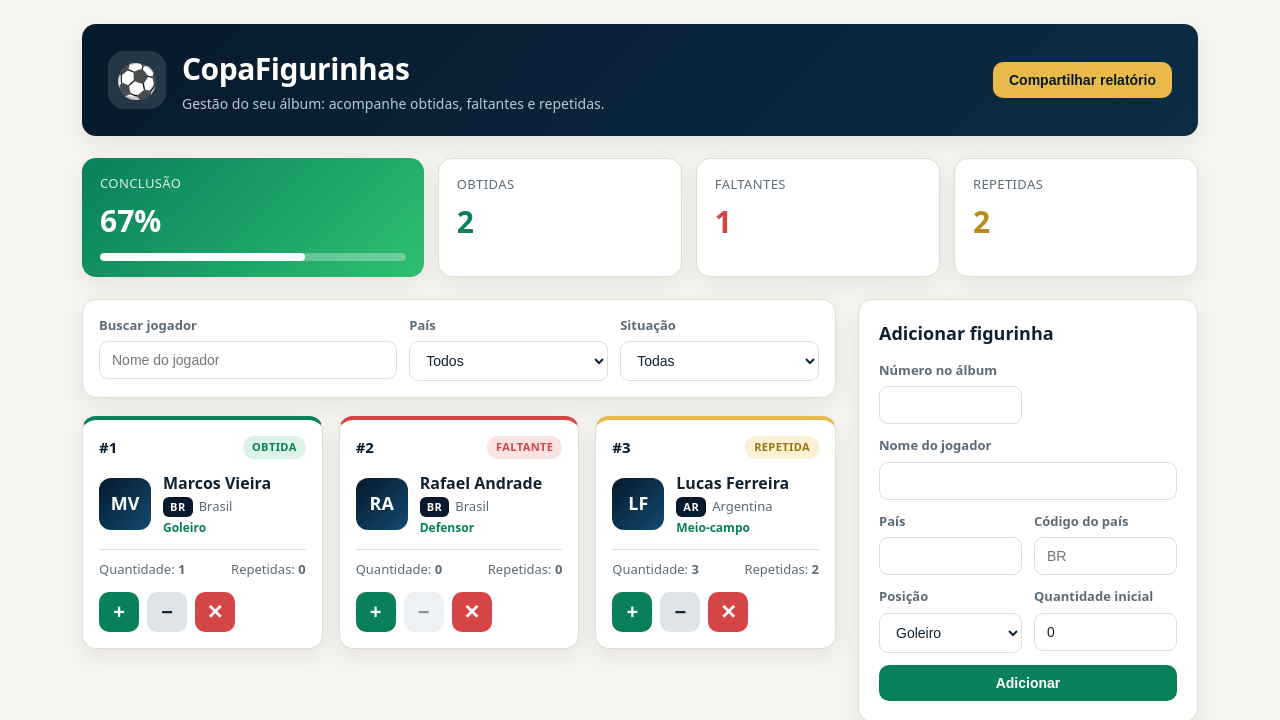
Test case: cadastro de figurinha › envia os dados do formulário e atualiza a lista
Type "42" into the number field labelled "Número no álbum". click: [950, 405]
box: x1=879 y1=386 x2=1022 y2=424
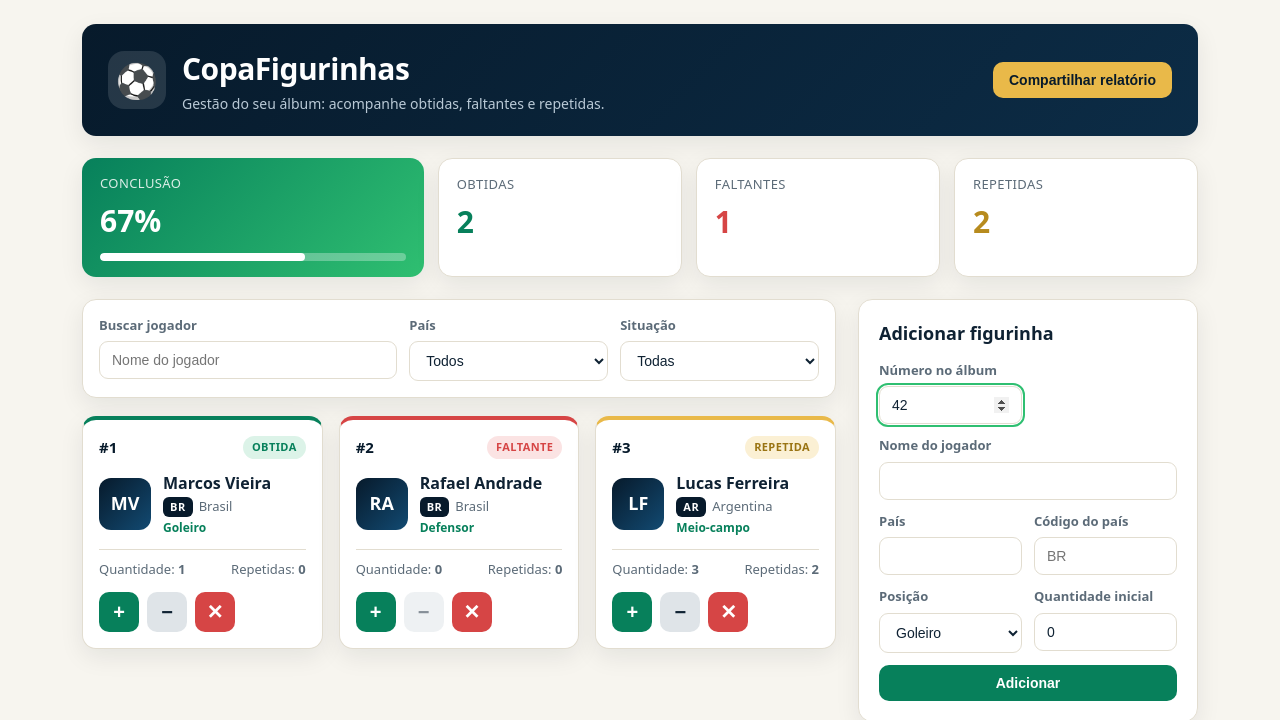
Type "Novo Jogador" into the field labelled "Nome do jogador". click: [1028, 480]
box: x1=879 y1=462 x2=1177 y2=500
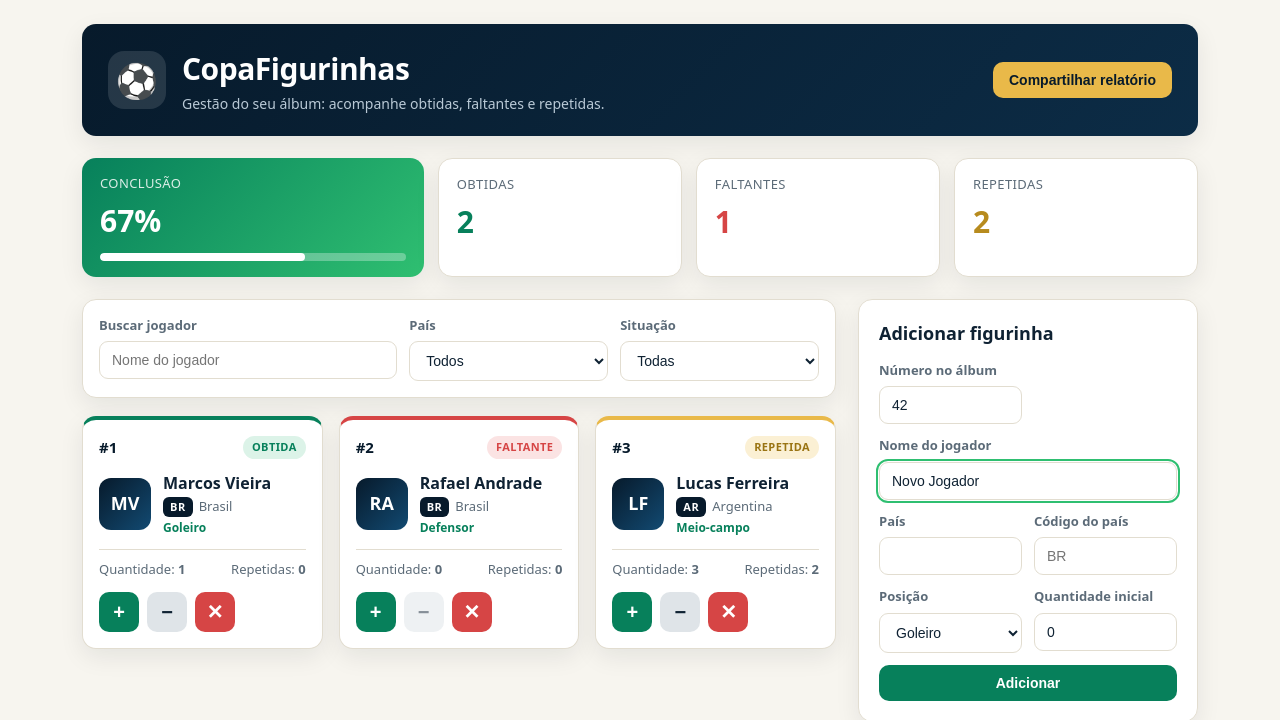
Type "Alemanha" into the field labelled "País". click: [950, 556]
box: x1=879 y1=537 x2=1022 y2=575
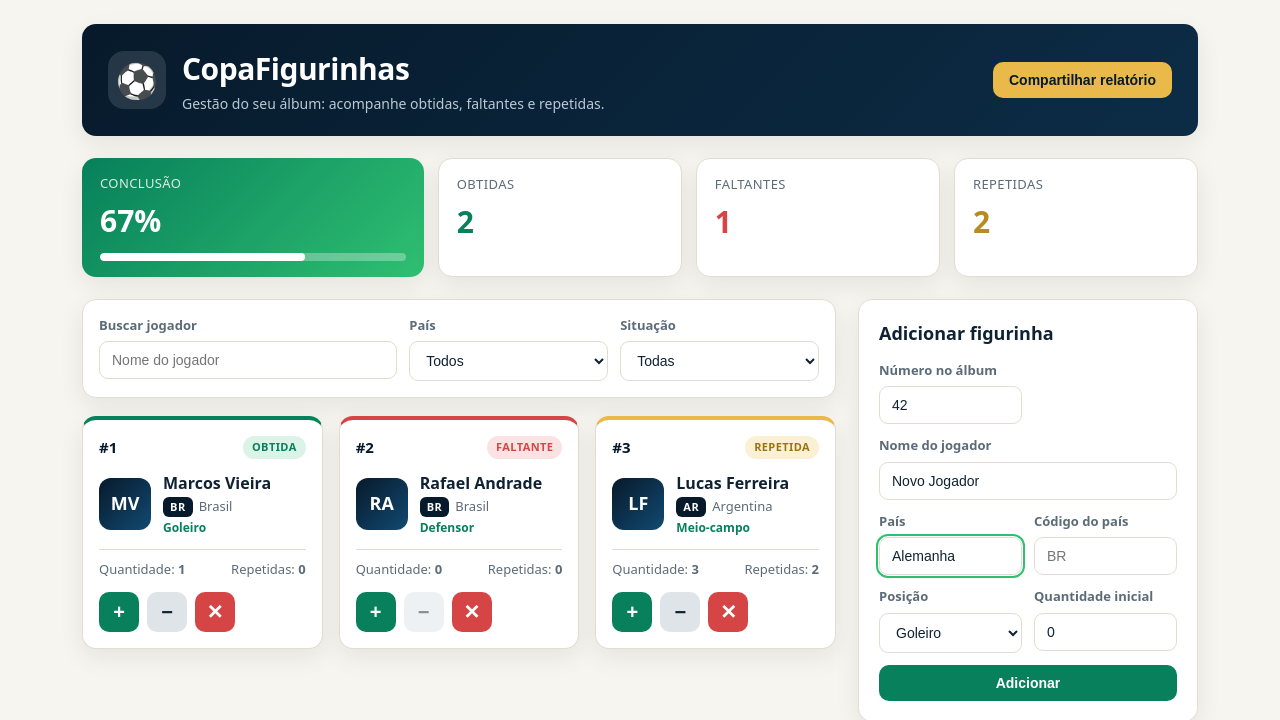
Type "DE" into the field labelled "Código do país". click: [1106, 556]
box: x1=1034 y1=537 x2=1177 y2=575
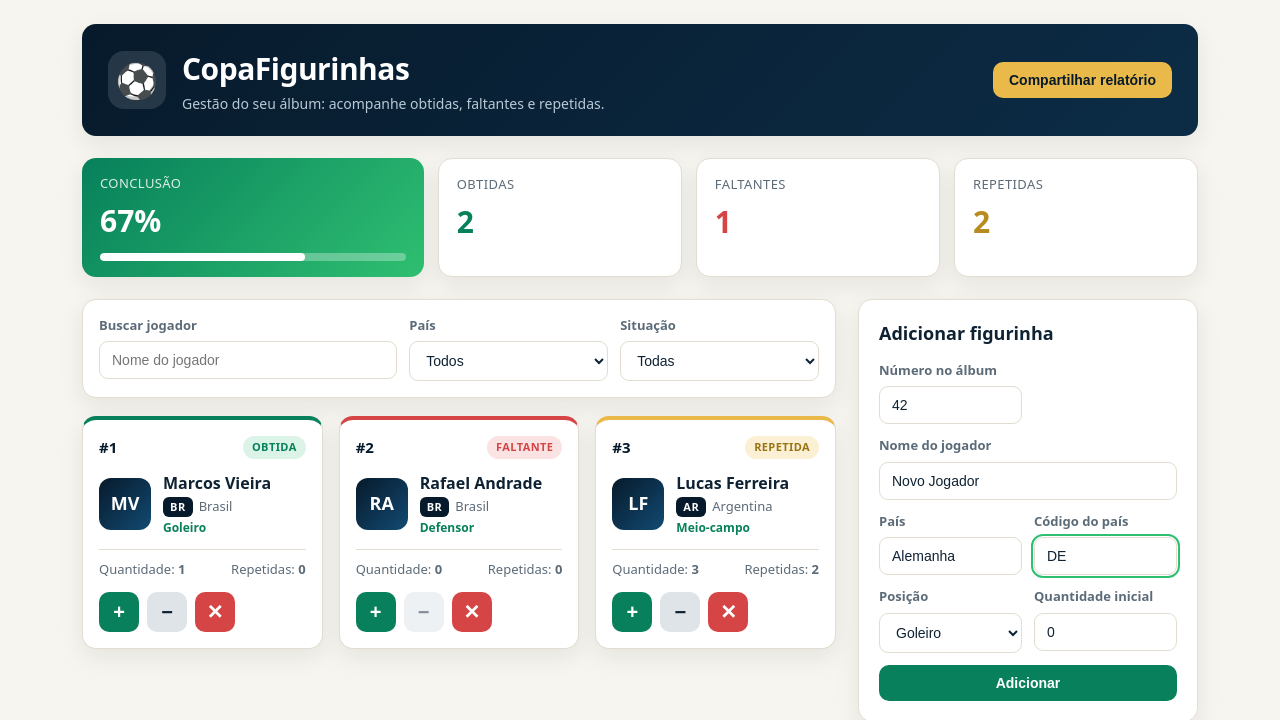
Click the button "Adicionar". click: [1028, 682]
box: x1=879 y1=664 x2=1177 y2=700
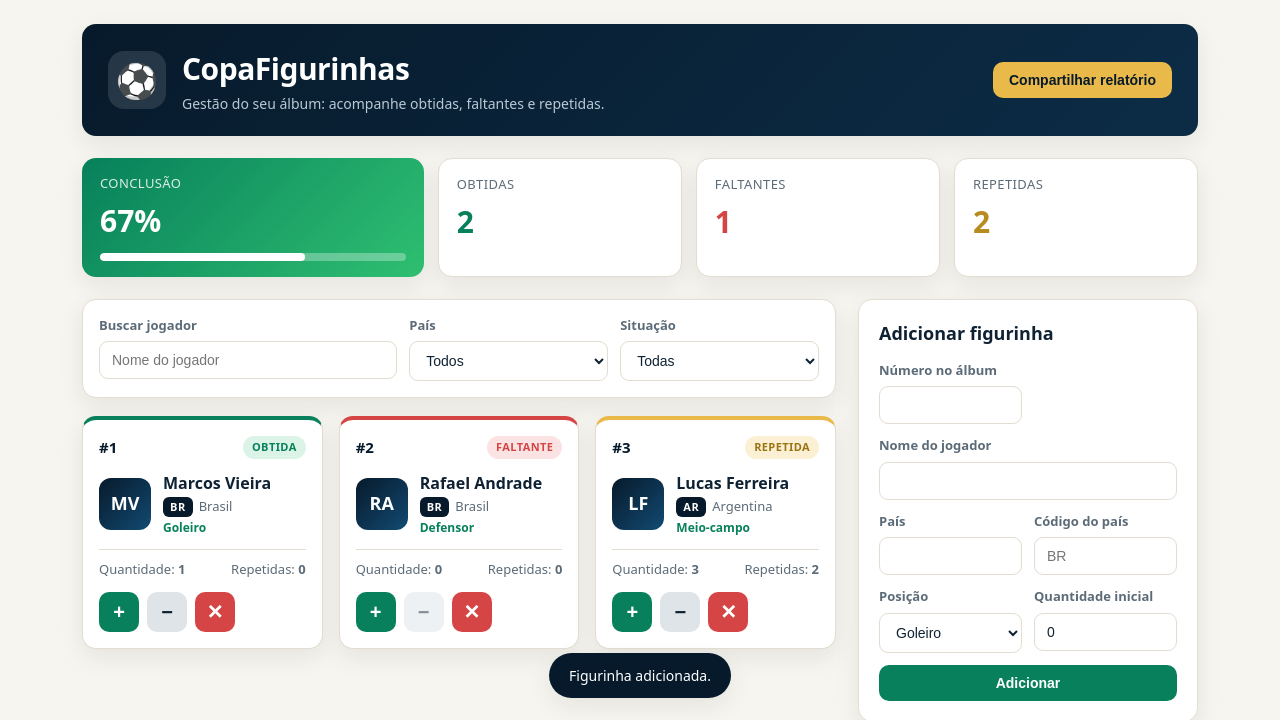
Expected: the text "Figurinha adicionada." is shown, x1=549 y1=653 x2=731 y2=698
